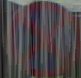No Stopping: (2, 3, 74, 63)
